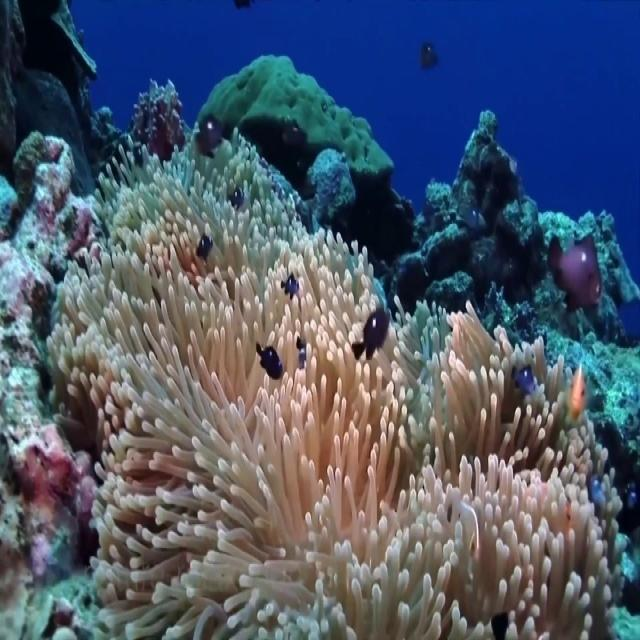fish: (548, 234, 603, 310), (352, 309, 391, 360), (195, 115, 224, 158), (256, 343, 283, 379), (197, 233, 215, 259), (282, 272, 300, 298)
reefs: (48, 128, 626, 639), (0, 131, 106, 639)
